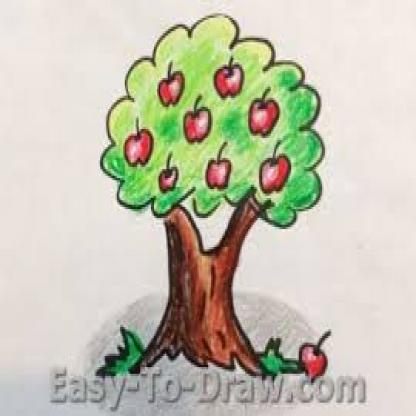apple: (258, 150, 294, 197), (249, 92, 280, 138), (202, 148, 234, 190), (212, 62, 247, 100), (182, 106, 214, 147), (299, 341, 329, 380), (156, 72, 187, 108), (123, 131, 154, 167), (157, 164, 179, 190)
branch_cut: (160, 194, 263, 255)
crown_cloud: (99, 9, 327, 233)
root_only: (130, 328, 271, 391)
trunk_bark: (162, 264, 242, 317)
